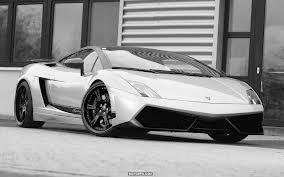car: (14, 43, 268, 147)
